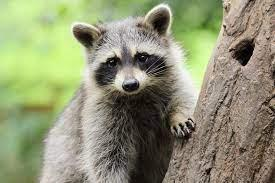raccoon: (28, 0, 206, 183)
